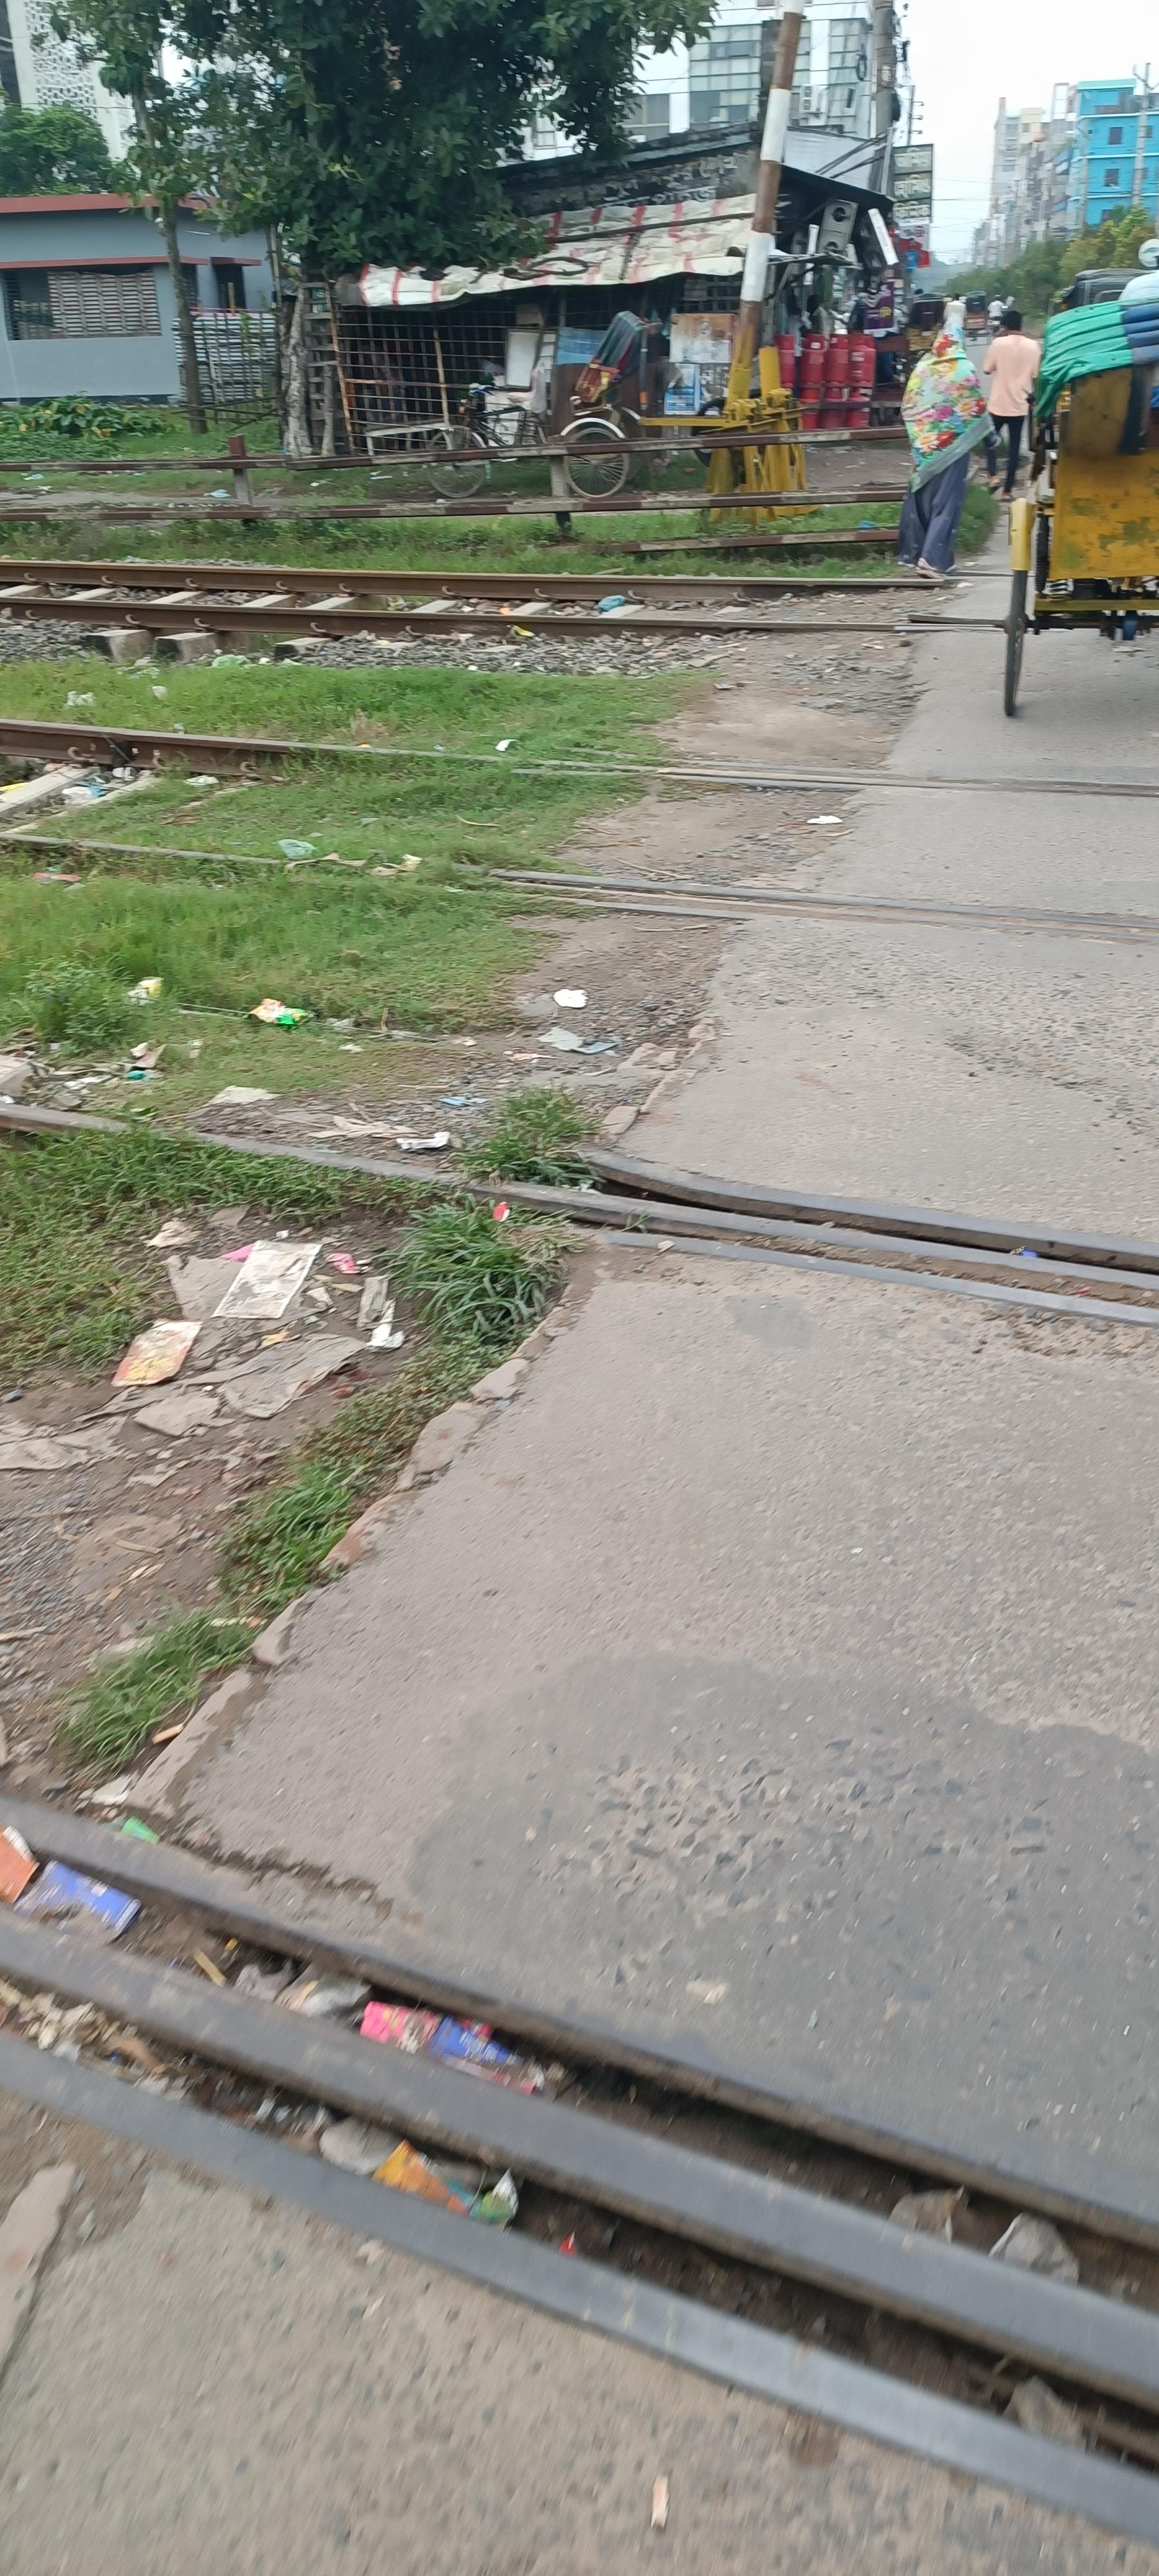Garbage-bin: (898, 297, 993, 578), (982, 309, 1046, 501)
Light-pole: (701, 3, 809, 513)
Obstacle: (57, 953, 1159, 2576), (0, 439, 978, 812)
